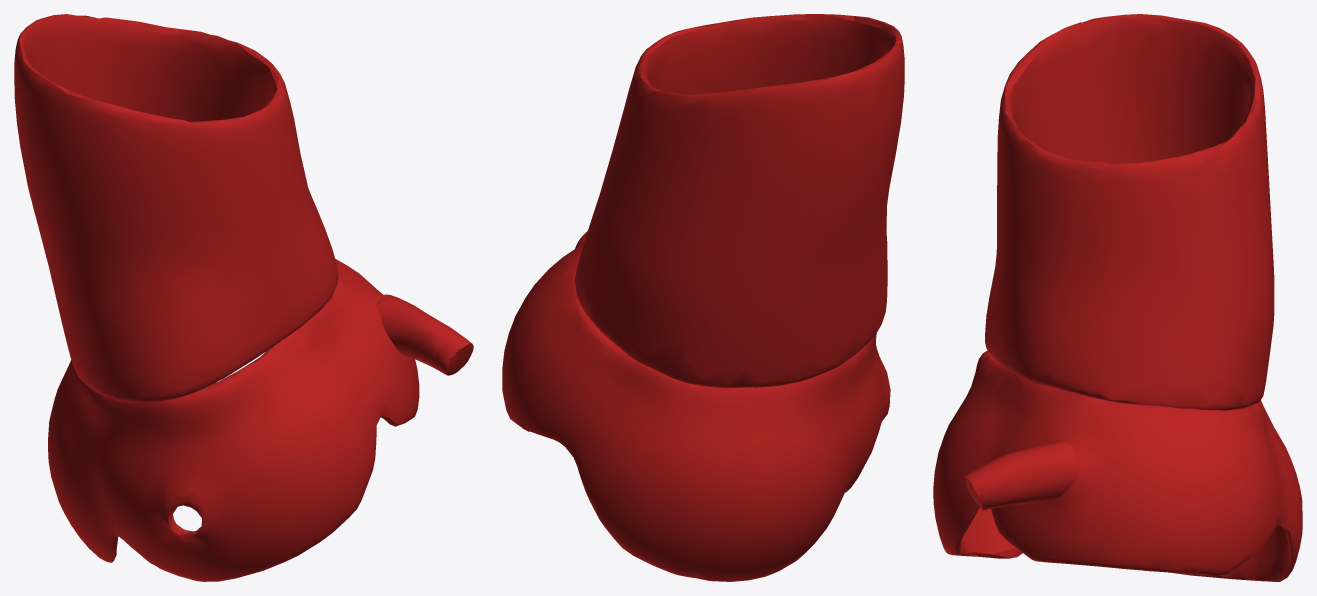
File: aorta.glb
3 renders of one model, left to right at view 1: azimuth 30°, elevation 25°; view 2: azimuth 150°, elevation 25°; view 3: azimuth 270°, elevation 25°, orthographic.
Visible parts, largest first — view 1: MM557_BP58405_FMA4685_Stem of left coronary artery; view 2: MM557_BP58405_FMA4685_Stem of left coronary artery; view 3: MM557_BP58405_FMA4685_Stem of left coronary artery.
Boxes of the visible parts, x1=… form: MM557_BP58405_FMA4685_Stem of left coronary artery: x1=14, y1=14, x2=473, y2=581; MM557_BP58405_FMA4685_Stem of left coronary artery: x1=502, y1=14, x2=904, y2=581; MM557_BP58405_FMA4685_Stem of left coronary artery: x1=933, y1=14, x2=1302, y2=581.
Bounding box in the file's own units: 0.0375 × 0.0508 × 0.0329.
